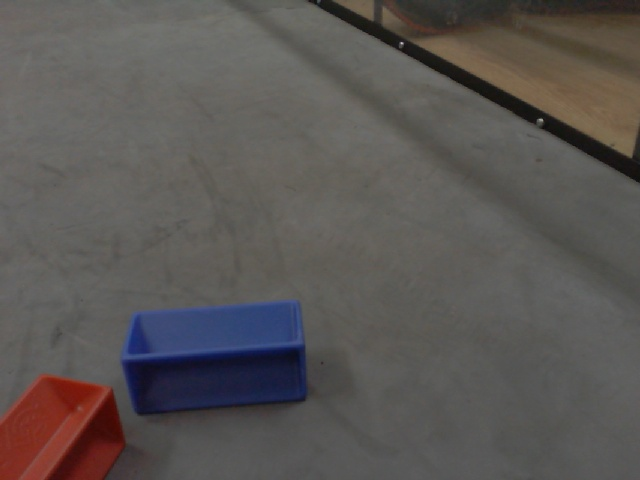BlueSample: (120, 297, 311, 414)
RedSample: (1, 369, 130, 478)
